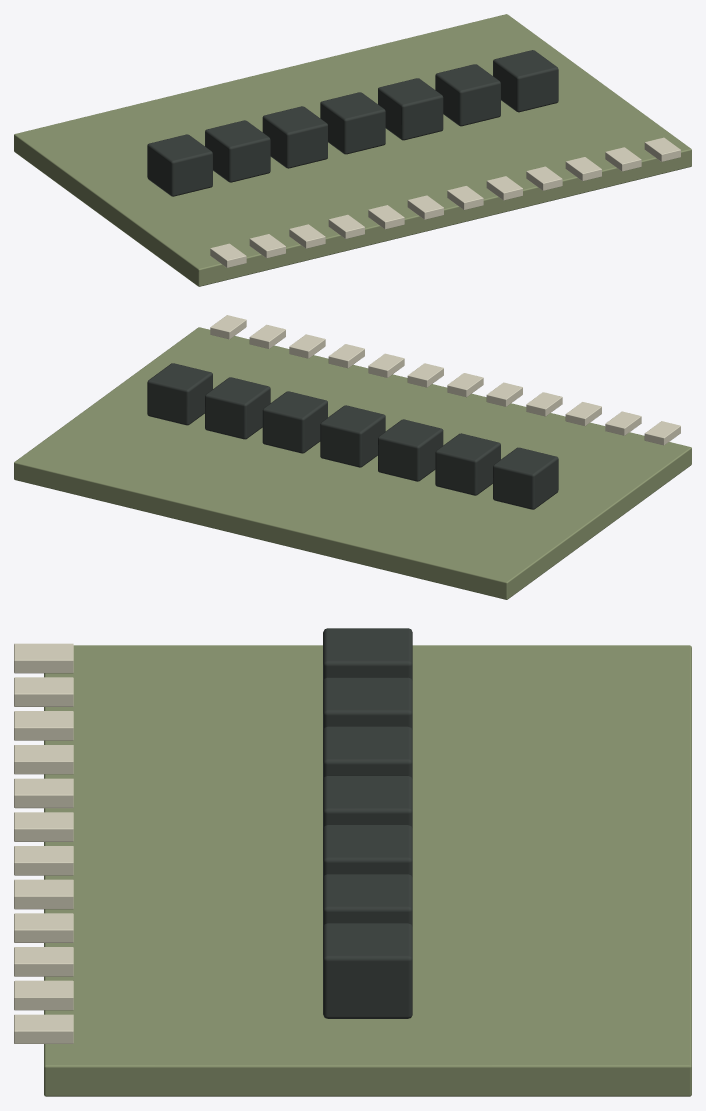
File: network.glb
3 renders of one model, top to bottom at view 1: azimuth 30°, elevation 25°; view 2: azimuth 150°, elevation 25°; view 3: azimuth 270°, elevation 25°, orthographic. The views are drawn at different scales.
Parts seen in each view (by area): view 1: circuit-board; view 2: circuit-board; view 3: circuit-board.
Boxes of the visible parts, x1,y1,x2,y2 form: circuit-board: (14, 14, 691, 286); circuit-board: (14, 315, 691, 599); circuit-board: (14, 628, 691, 1096).
Bounding box in the file's own units: 0.2 × 0.021 × 0.136.
